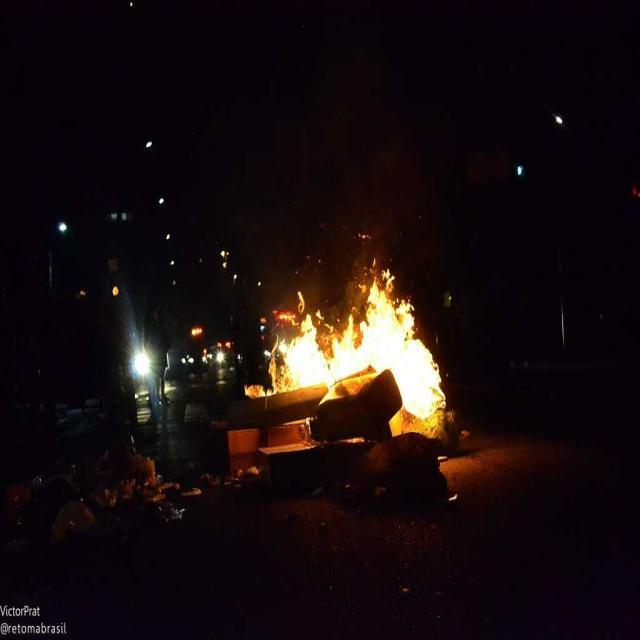Fire: (403, 342, 436, 414), (284, 328, 323, 383), (358, 302, 389, 362)
